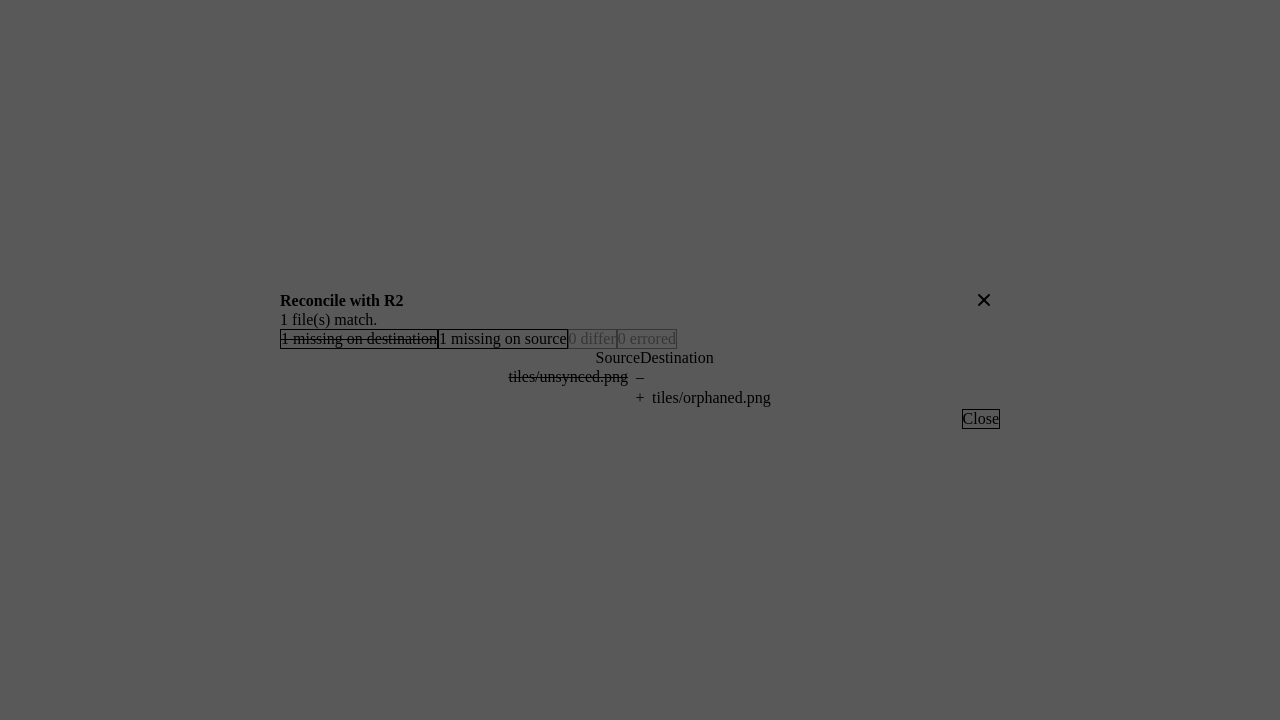
Test: ReconciliationModal › hides a kind's rows from the table when its filter chip is clicked
Check: the text "tiles/unsynced.png" is shown, box [508,368,628,385]
Step 1. Click the button "1 missing on source" → (503, 339), box [438,329,568,349]
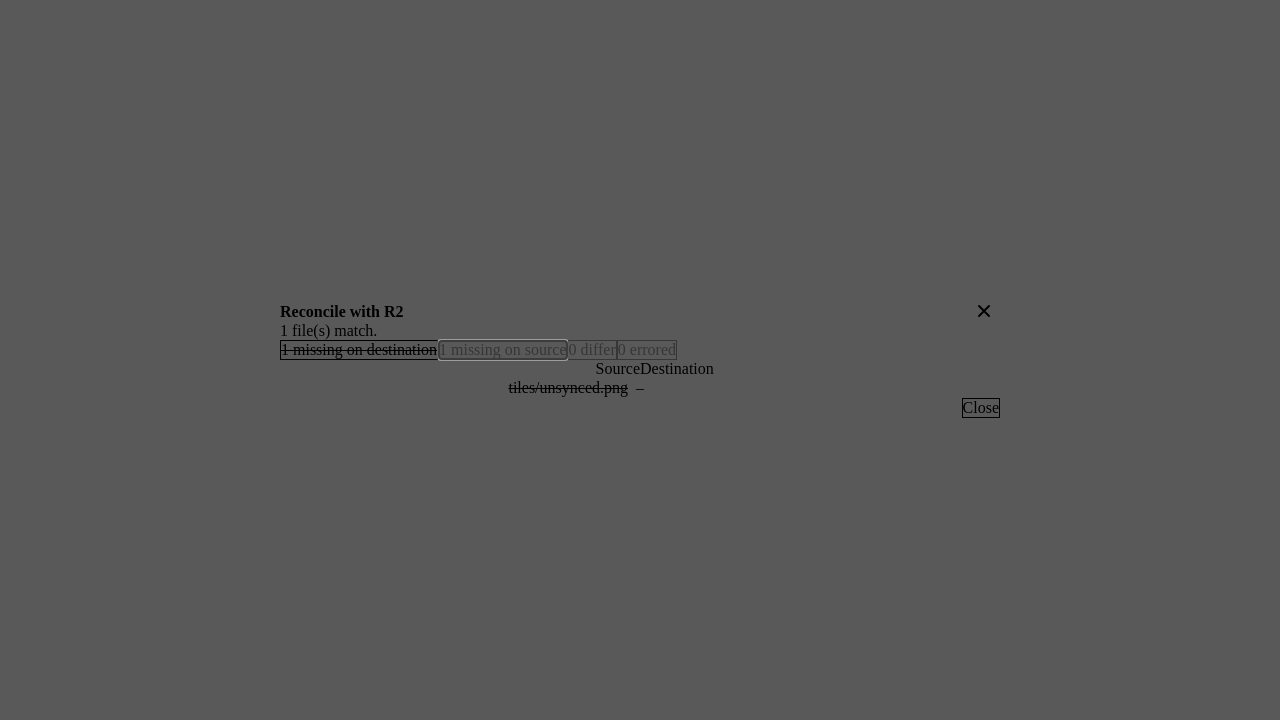
Check: the text "tiles/unsynced.png" is shown, box [508,379,628,396]
Check: the text "tiles/orphaned.png" is gone
